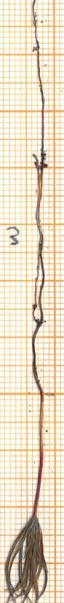flower: (0, 513, 64, 603)
root: (22, 0, 52, 391)
stem: (25, 391, 49, 513)
